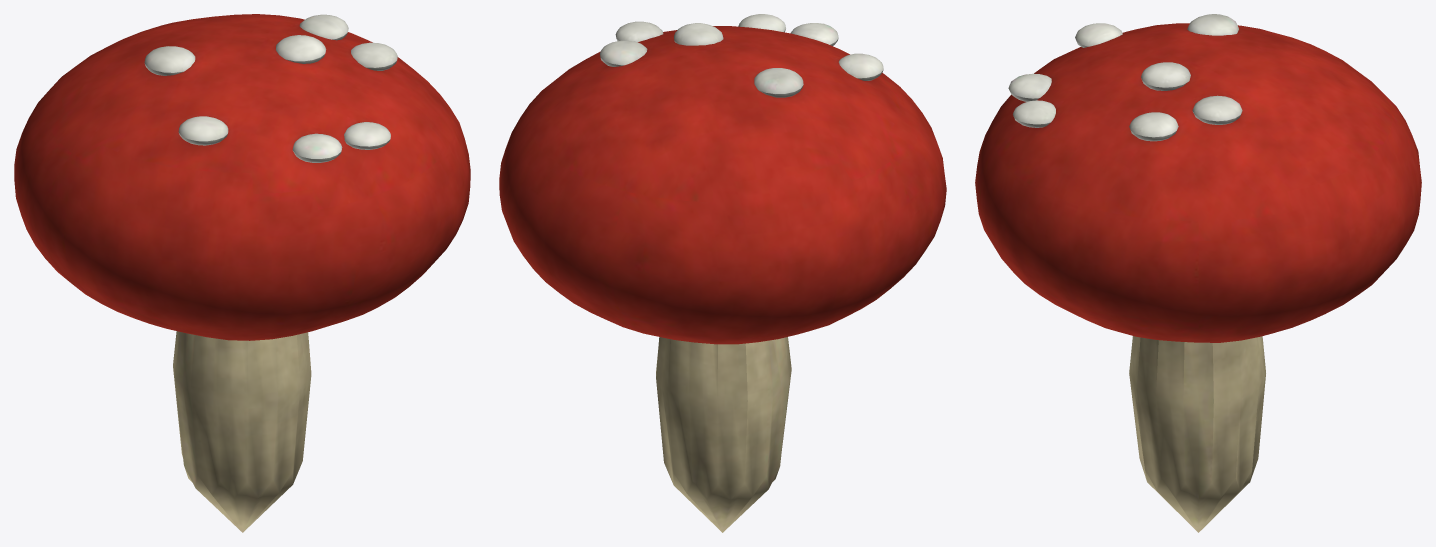
Rendered from mushroom.glb.
3 views of the same model, side by side, from view 1: azimuth 30°, elevation 25°; view 2: azimuth 150°, elevation 25°; view 3: azimuth 270°, elevation 25° (orthographic). The views are drawn at different scales.
Parts seen in each view (by area): view 1: mushroom; view 2: mushroom; view 3: mushroom.
Boxes of the visible parts, left/top/right/bottom form: mushroom: left=14, top=14, right=470, bottom=532; mushroom: left=499, top=14, right=946, bottom=532; mushroom: left=975, top=14, right=1421, bottom=532.
Size of the model in its own units: 1.07 by 1.28 by 1.06.
Materials: 3 (3 with a texture image).
